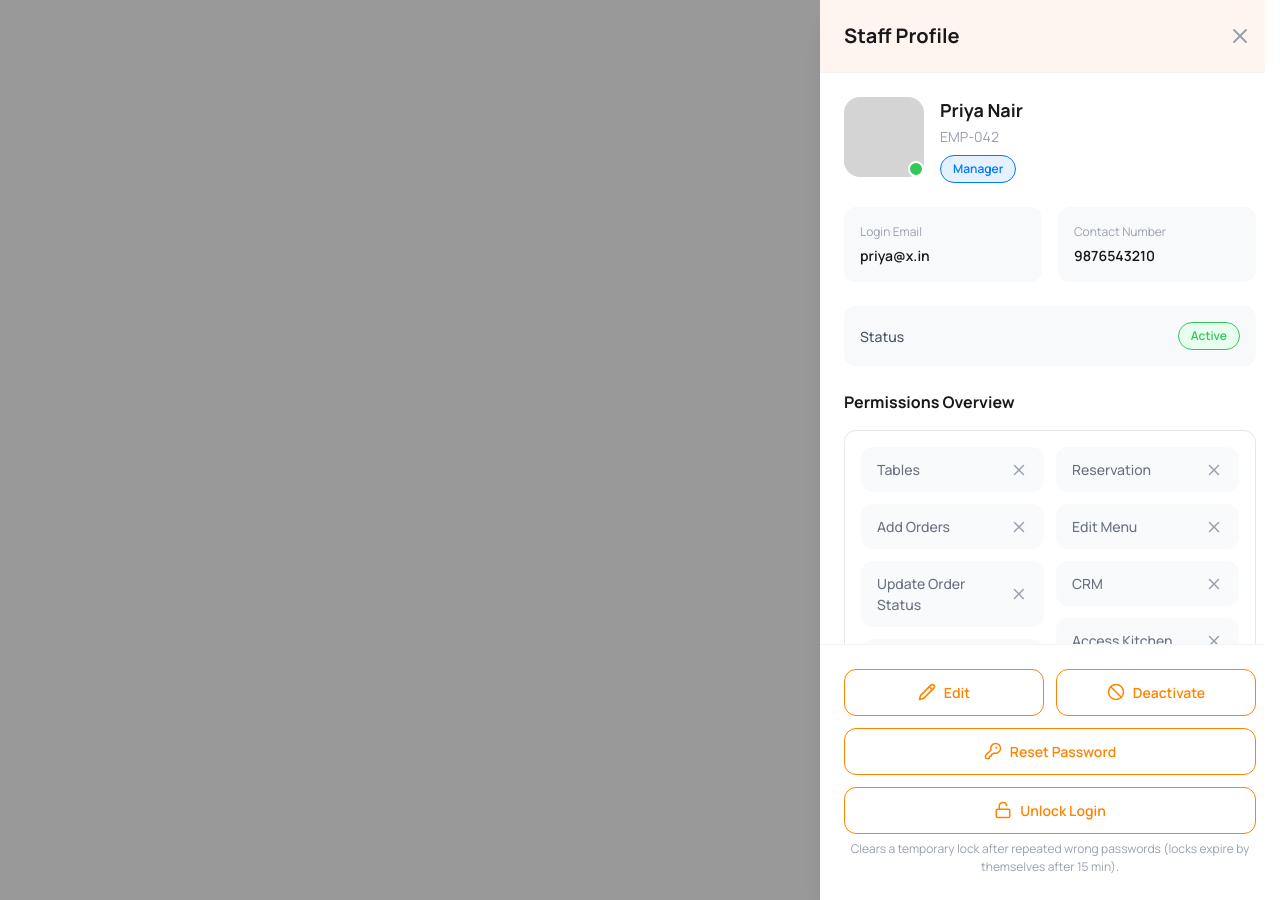
it: StaffProfileDrawer — Unlock Login behaviour › click → POST /staff/<id>/unlock-login, disabled while pending, success toast names the staff
Click the button "Unlock Login": [1050, 810] box [844,787,1256,834]
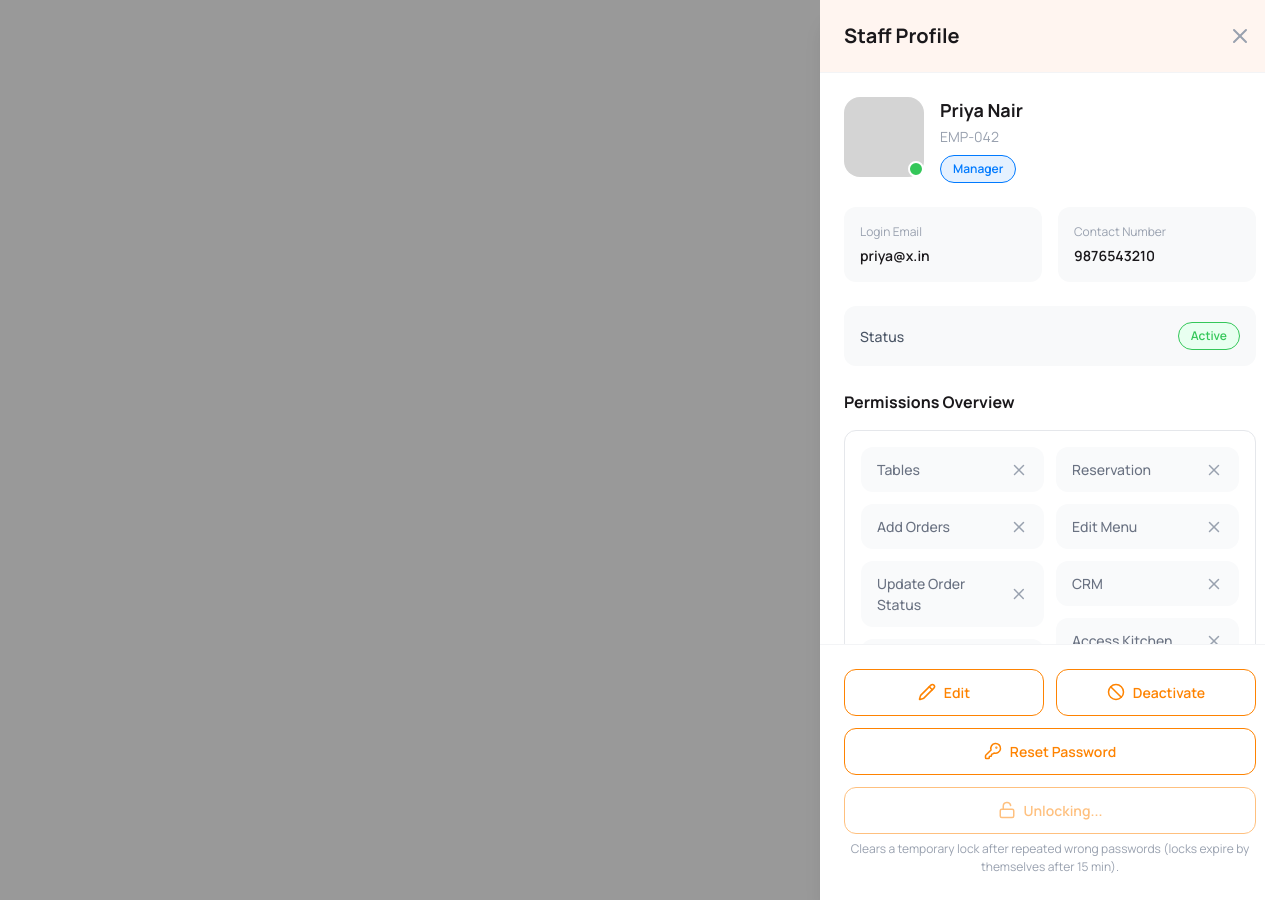
Result: the button "Unlocking..." is disabled
Click the button "Unlocking...": [1050, 810] box [844,787,1256,834]
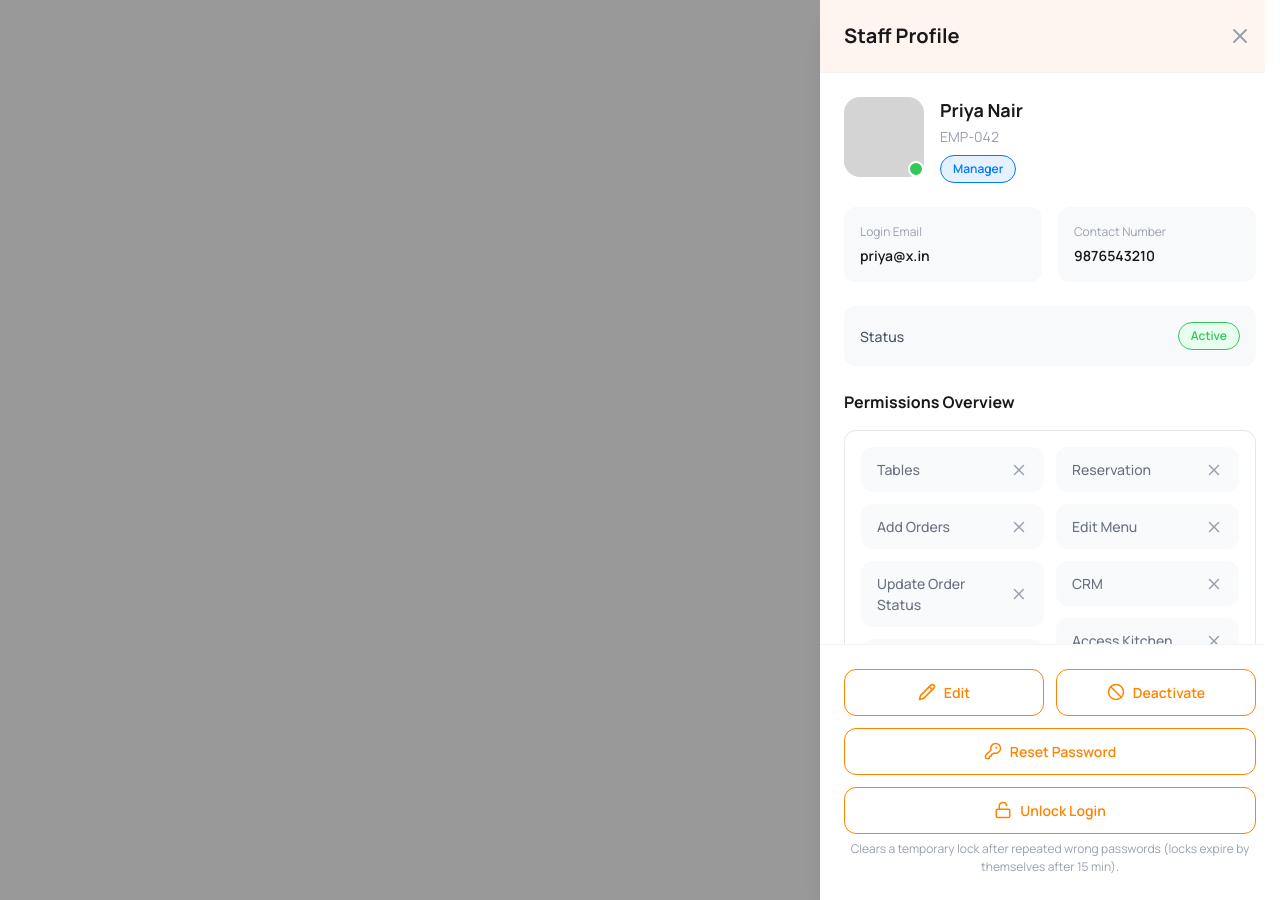
Result: the button "Unlock Login" is enabled at [844,787,1256,834]
